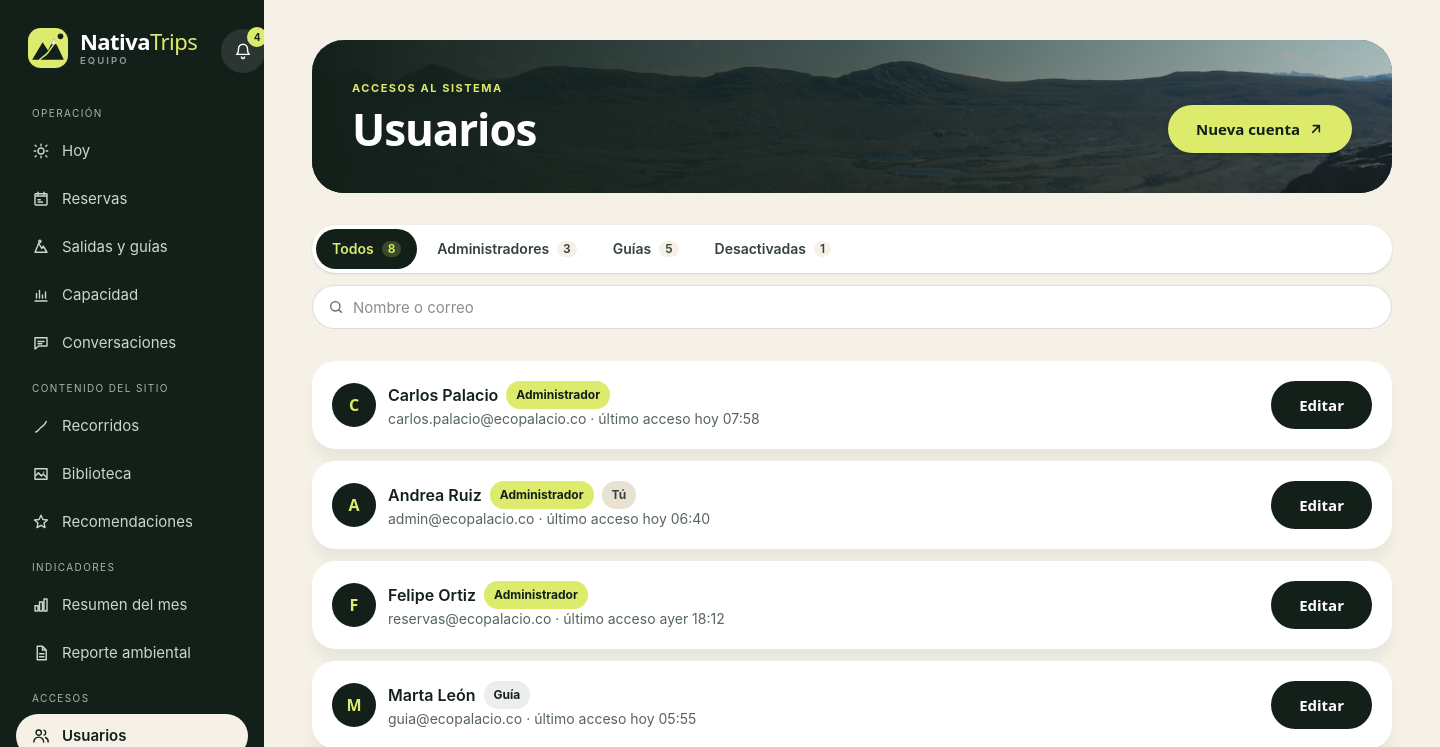
Test: pantallas del personal › el administrador no puede quitarse su propio rol ni borrar su cuenta
This screenshot has width=1440, height=747.
Click the button with aria-label "Editar a Andrea Ruiz" at (1322,505), box [1271,481,1372,529]
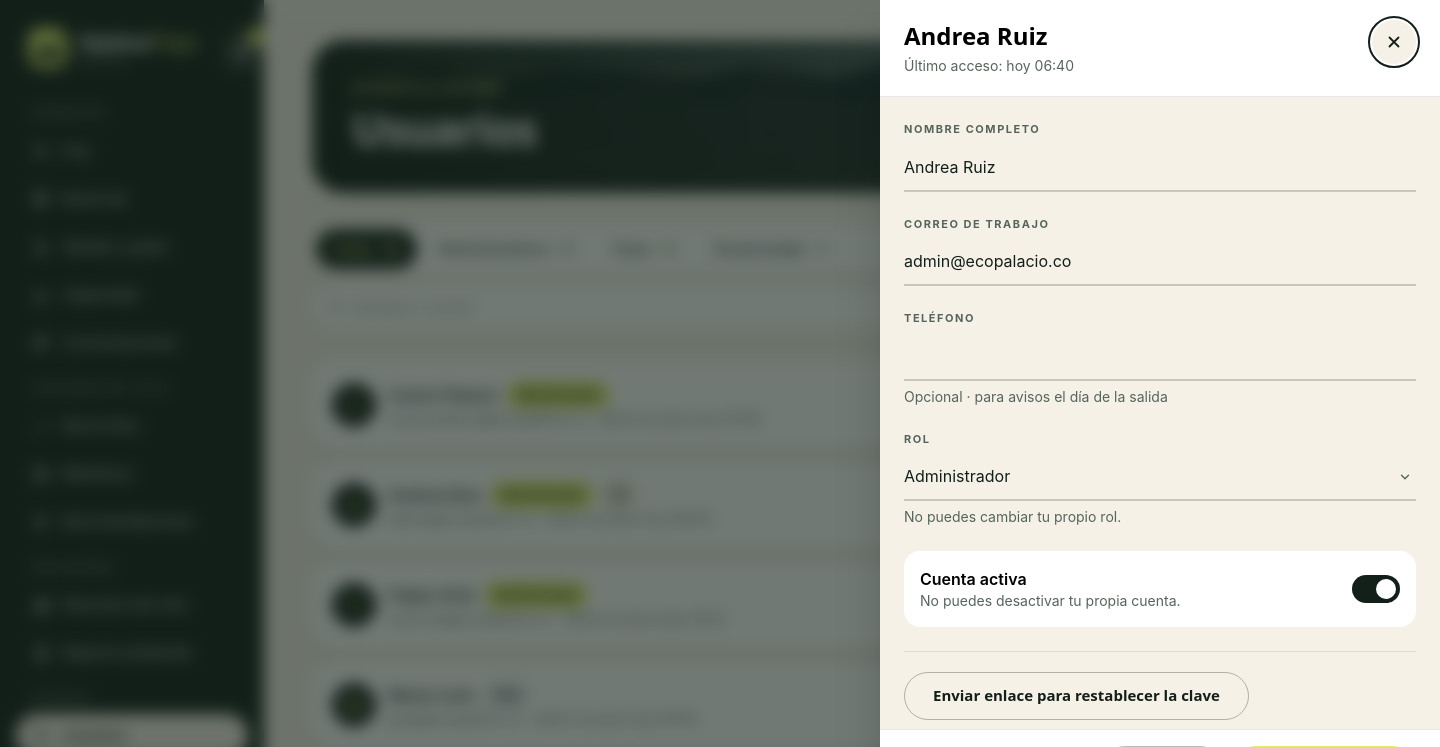
Expected: the dropdown labelled "Rol" is disabled, [904,453,1416,501]
